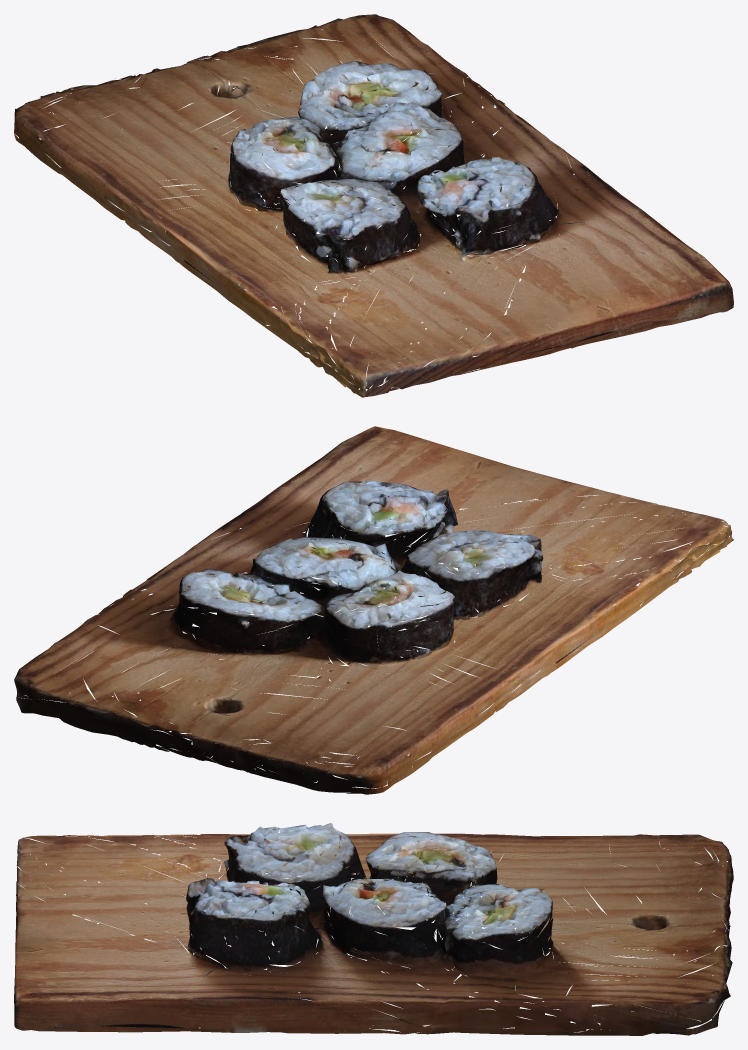
File: sushi-v03.glb
3 views of the same model, one above another, from view 1: azimuth 30°, elevation 25°; view 2: azimuth 150°, elevation 25°; view 3: azimuth 270°, elevation 25° (orthographic). The views are drawn at different scales.
Parts seen in each view (by area): view 1: sushi_04_material0_0; view 2: sushi_04_material0_0; view 3: sushi_04_material0_0.
Boxes of the visible parts, x1,y1,x2,y2 form: sushi_04_material0_0: [14, 14, 733, 397]; sushi_04_material0_0: [14, 426, 733, 794]; sushi_04_material0_0: [14, 823, 733, 1035].
Bounding box in the file's own units: 0.28 × 0.052 × 0.4635.
Materials: 1 (1 with a texture image).
